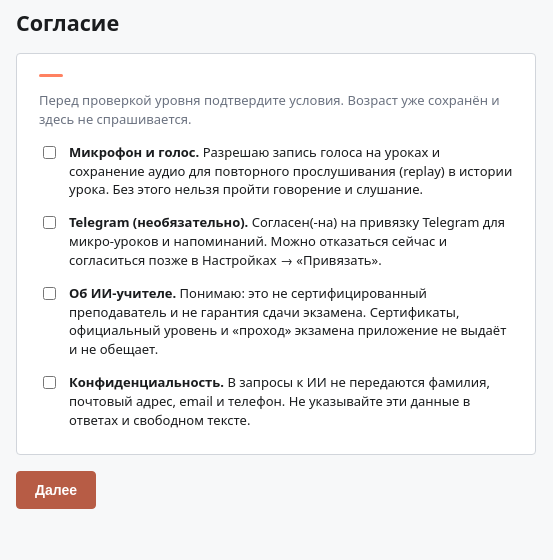
Test case: OnboardingConsent › missing required consents blocks Далее without PATCH
Click the button with test id "next-button". click: (56, 490)
box: [16, 471, 96, 509]
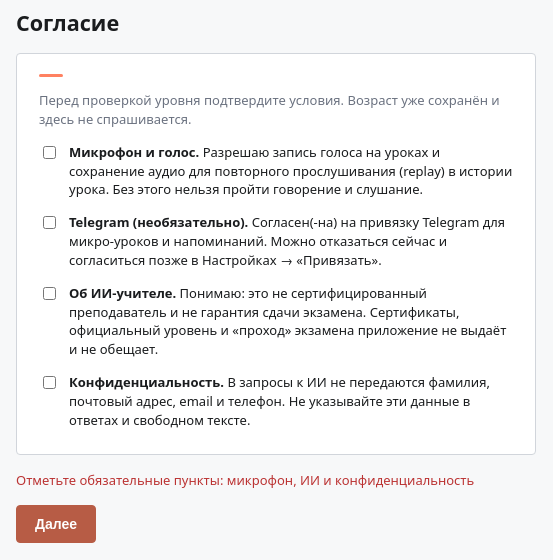
Expected: the message with test id "validation-error" shows "обязательные", [16, 471, 474, 489]
